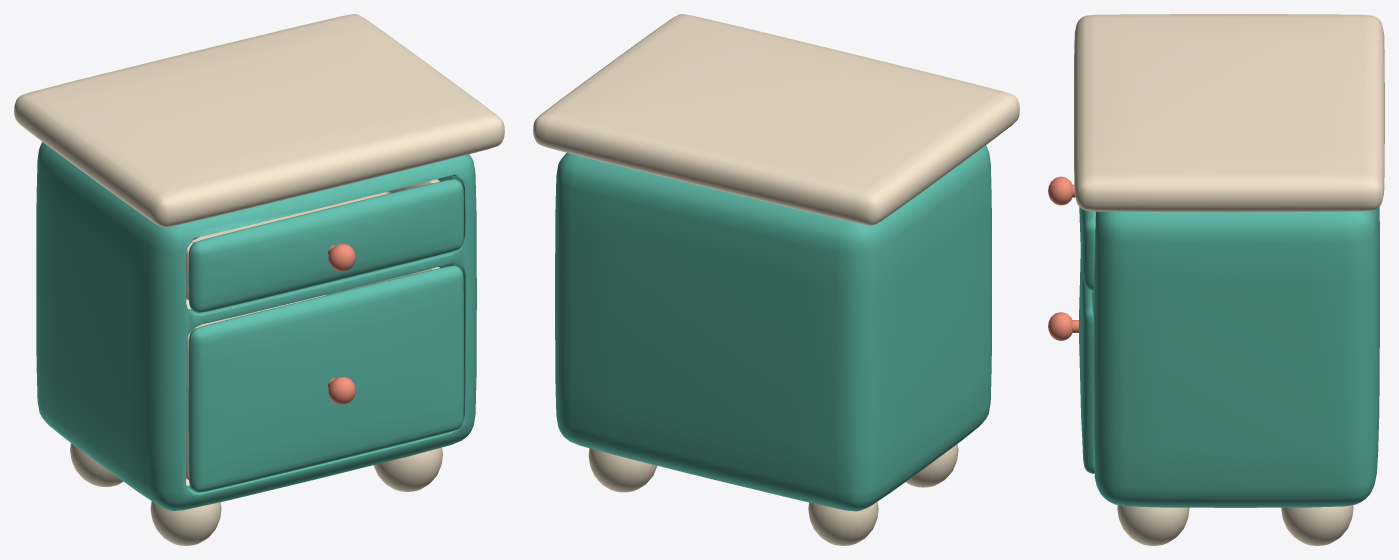
Rendered from cabinet_c.glb.
The picture shows the model from 3 angles, left to right: view 1: azimuth 30°, elevation 25°; view 2: azimuth 150°, elevation 25°; view 3: azimuth 270°, elevation 25°; orthographic projection. The views are drawn at different scales.
Visible parts, largest first — view 1: body, drawer_2, drawer_1; view 2: body; view 3: body, drawer_2, drawer_1.
Part boxes in pixels (left/top/right/bottom): body: left=14, top=14, right=504, bottom=545; drawer_2: left=186, top=265, right=463, bottom=492; drawer_1: left=186, top=179, right=463, bottom=312; body: left=533, top=14, right=1019, bottom=545; body: left=1074, top=14, right=1384, bottom=545; drawer_2: left=1048, top=250, right=1094, bottom=473; drawer_1: left=1048, top=176, right=1095, bottom=290.
Bounding box in the file's own units: 0.86 × 0.905 × 0.6985.
